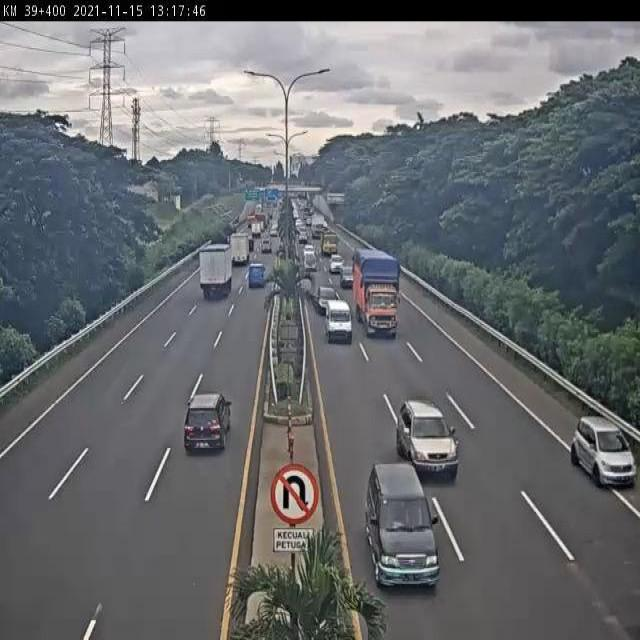bus-s-: (325, 296, 354, 345), (247, 263, 265, 284)
car: (568, 410, 639, 490), (317, 284, 337, 316)
truck-l-: (353, 244, 406, 341)
truck-m-: (197, 242, 236, 302)
